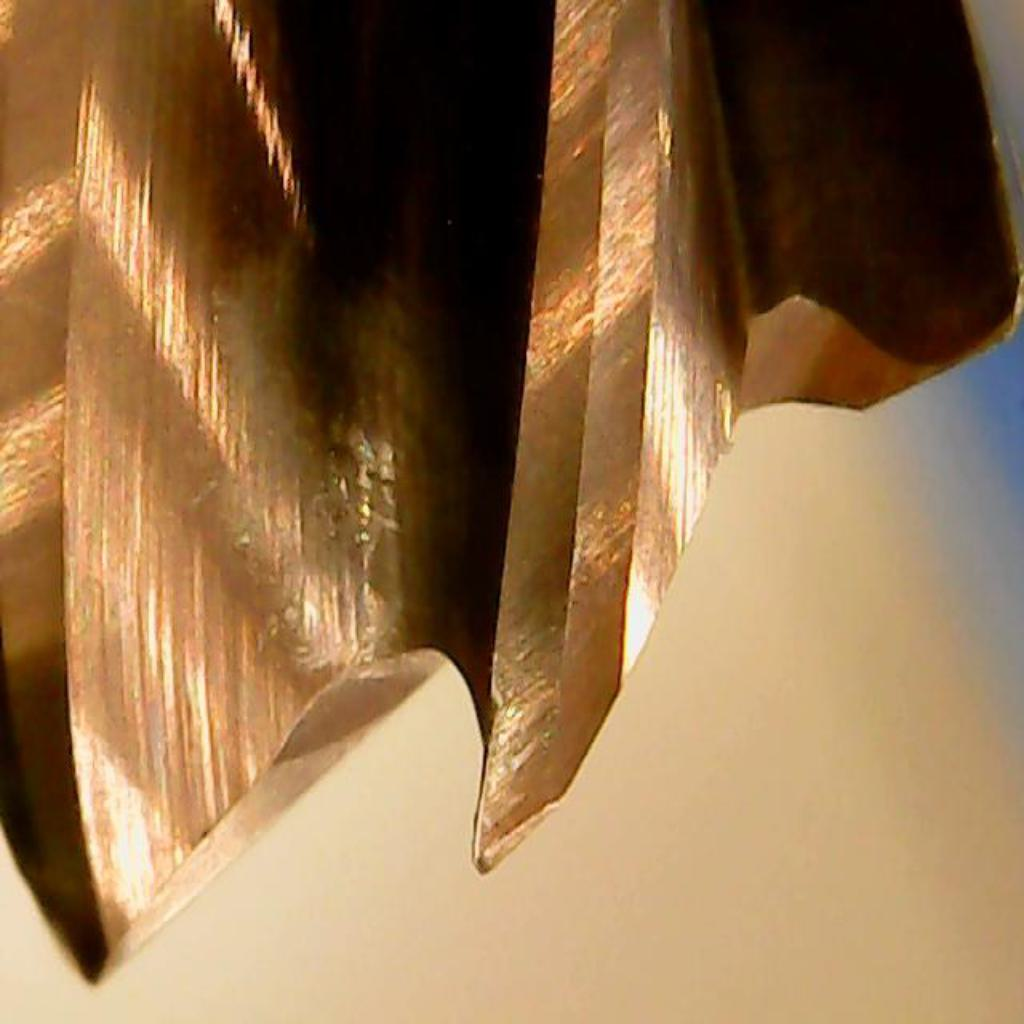Tool-wear-class-1: (432, 388, 653, 885)
